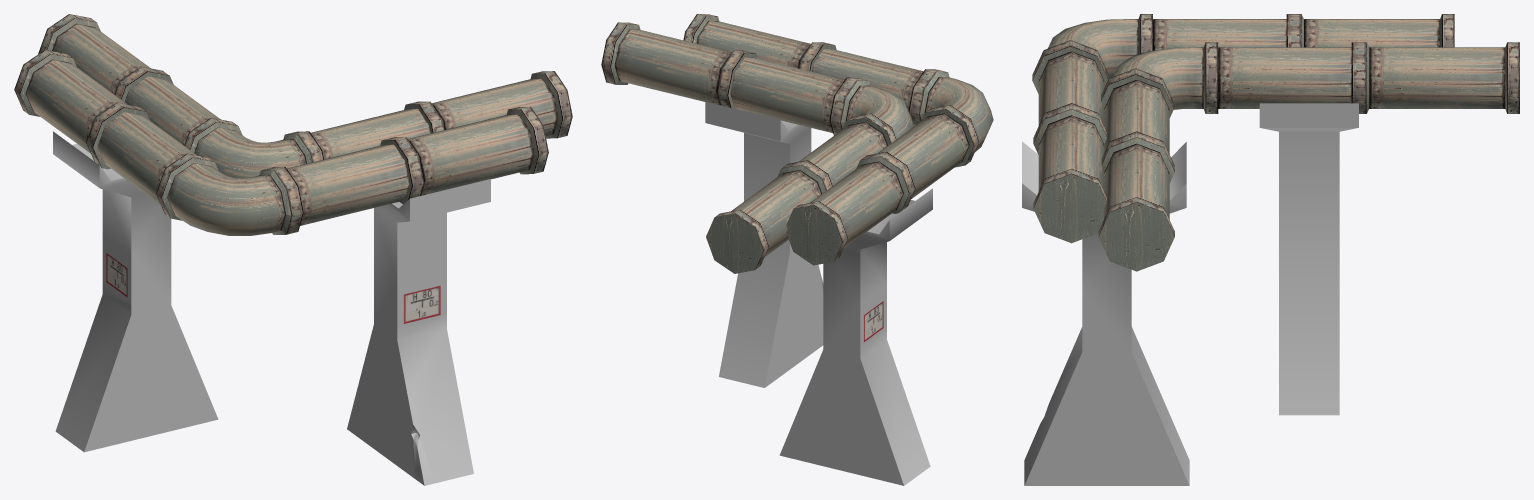
Rendered from pipe_gas_curve.fbx.
3 views of the same model, side by side, from view 1: azimuth 30°, elevation 25°; view 2: azimuth 150°, elevation 25°; view 3: azimuth 270°, elevation 25° (orthographic). The views are drawn at different scales.
Parts seen in each view (by area): view 1: Mesh Object; view 2: Mesh Object; view 3: Mesh Object.
Boxes of the visible parts, bbox=[...] form: Mesh Object: bbox=[14, 14, 572, 485]; Mesh Object: bbox=[601, 14, 993, 485]; Mesh Object: bbox=[1022, 14, 1519, 485].
Bounding box in the file's own units: 4.74 × 3.72 × 4.75.
